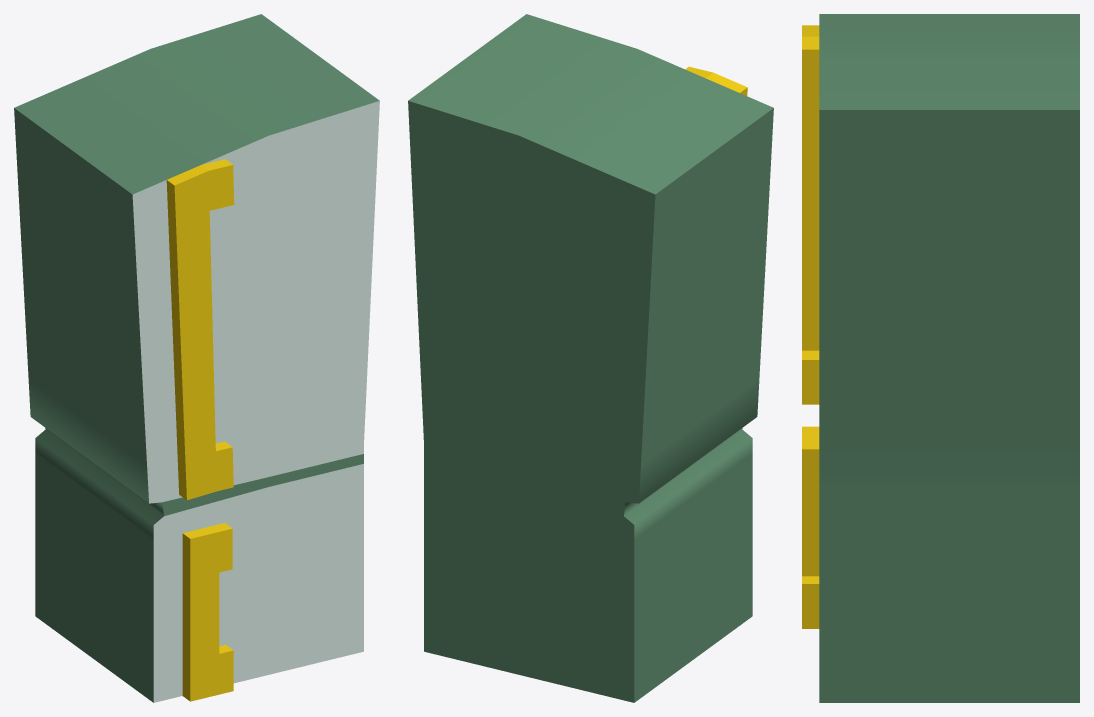
The model's file is Fridge.fbx.
The picture shows the model from 3 angles, left to right: view 1: azimuth 30°, elevation 25°; view 2: azimuth 150°, elevation 25°; view 3: azimuth 270°, elevation 25°; orthographic projection. The views are drawn at different scales.
Visible parts, largest first — view 1: Fridge; view 2: Fridge; view 3: Fridge.
Part boxes in pixels (x1,y1,x2,y2): Fridge: (14,14,379,702); Fridge: (408,14,773,702); Fridge: (802,14,1079,702).
Bounding box in the file's own units: 141 × 297 × 124.
